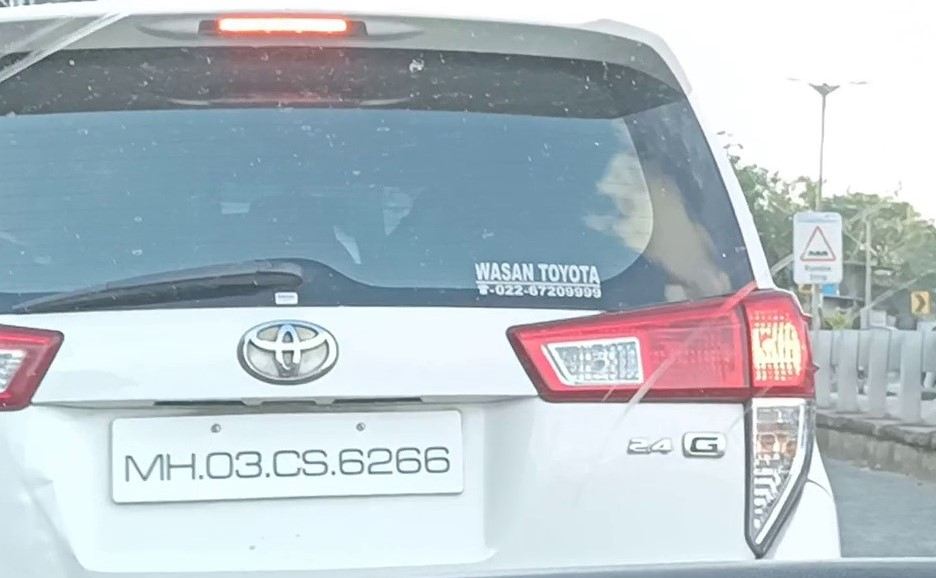MH03CS6266: (111, 407, 465, 505)
